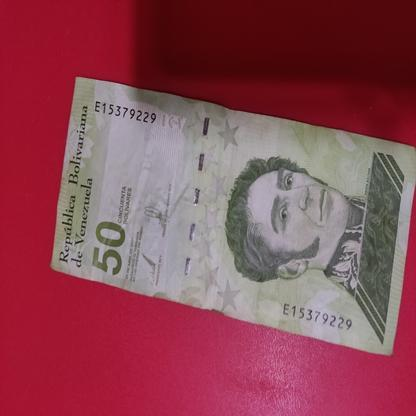fifty-front-vef: (49, 75, 416, 356)
